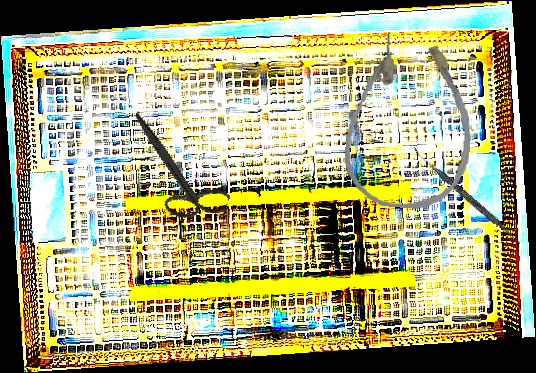Cannula: (340, 28, 480, 214)
Iris Scissors: (106, 110, 248, 233)
Spatula Surgical: (409, 146, 524, 246)
